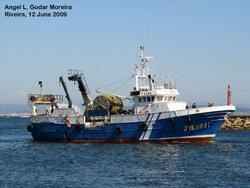otherboat: (27, 42, 237, 146)
